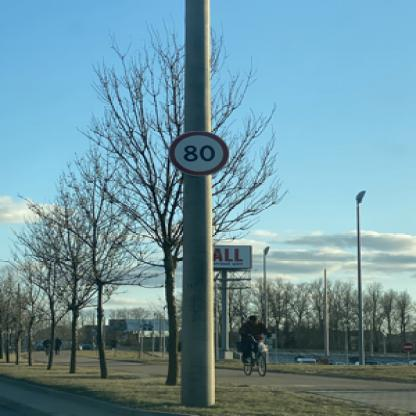speedlimit: (166, 130, 224, 174)
